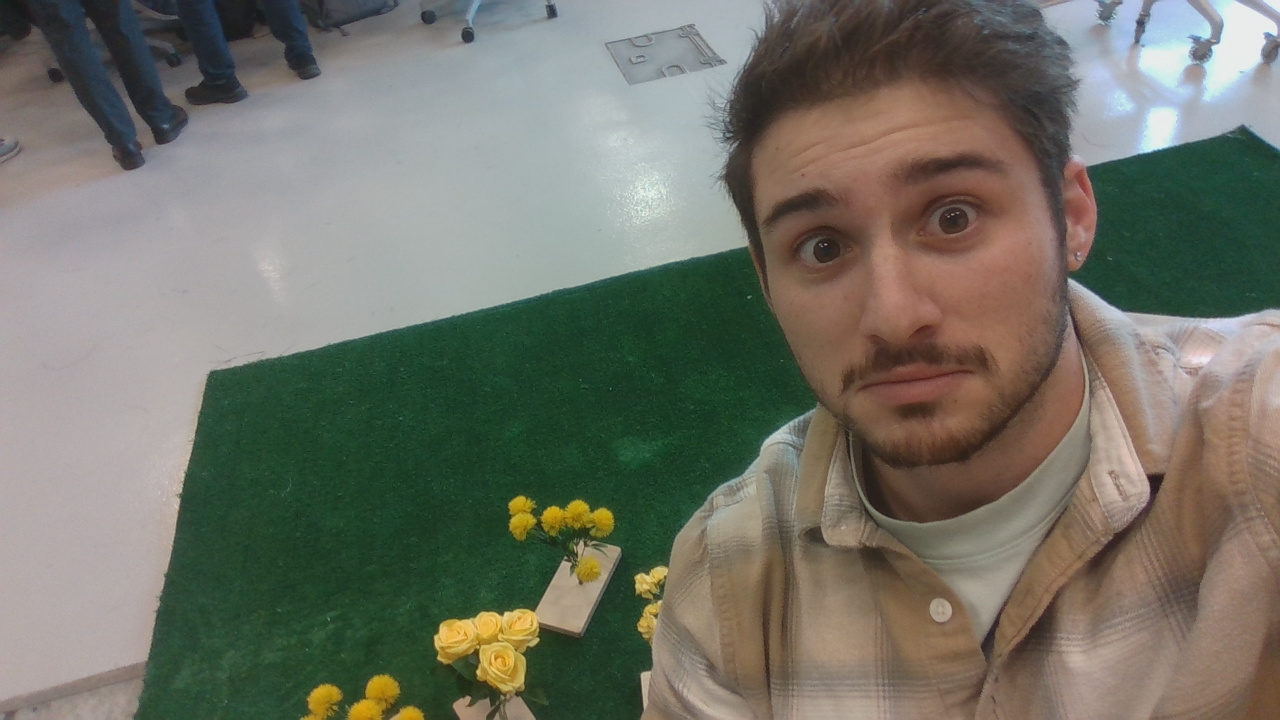dandelion: (505, 487, 622, 589), (288, 677, 437, 720)
geranium: (635, 564, 666, 639)
rose: (423, 609, 553, 701)
